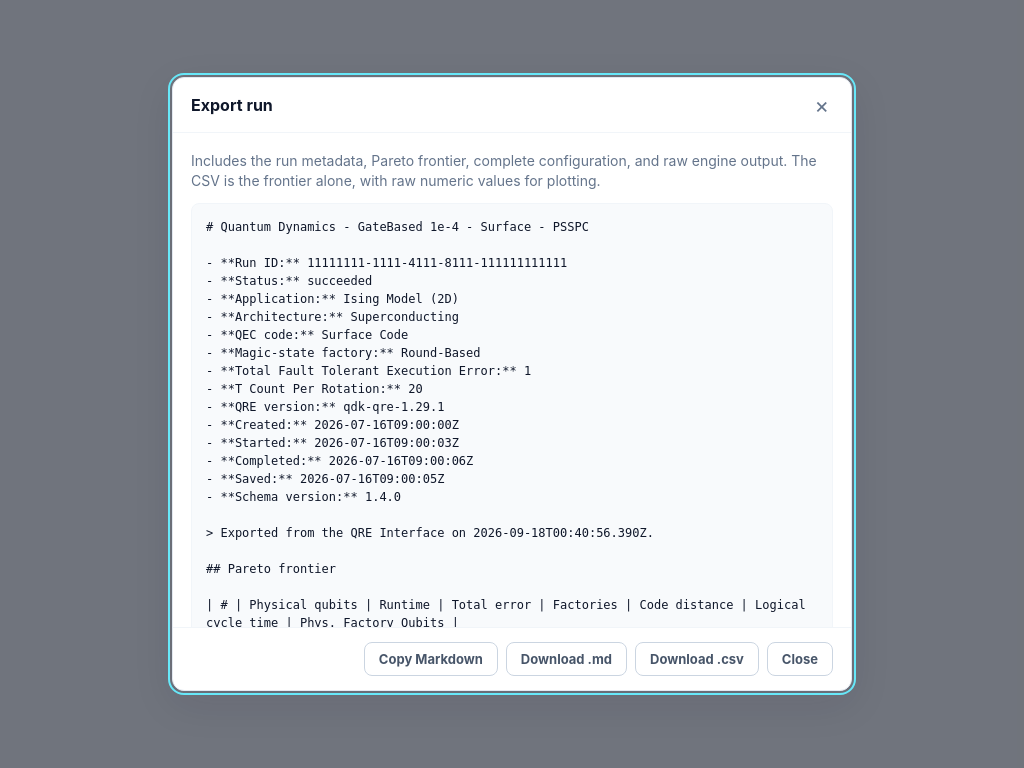
Test case: run export — copy › says so when the clipboard refuses, rather than looking like it worked
Click the button "Copy Markdown".
click(431, 659)  # box 364,642 -> 498,676
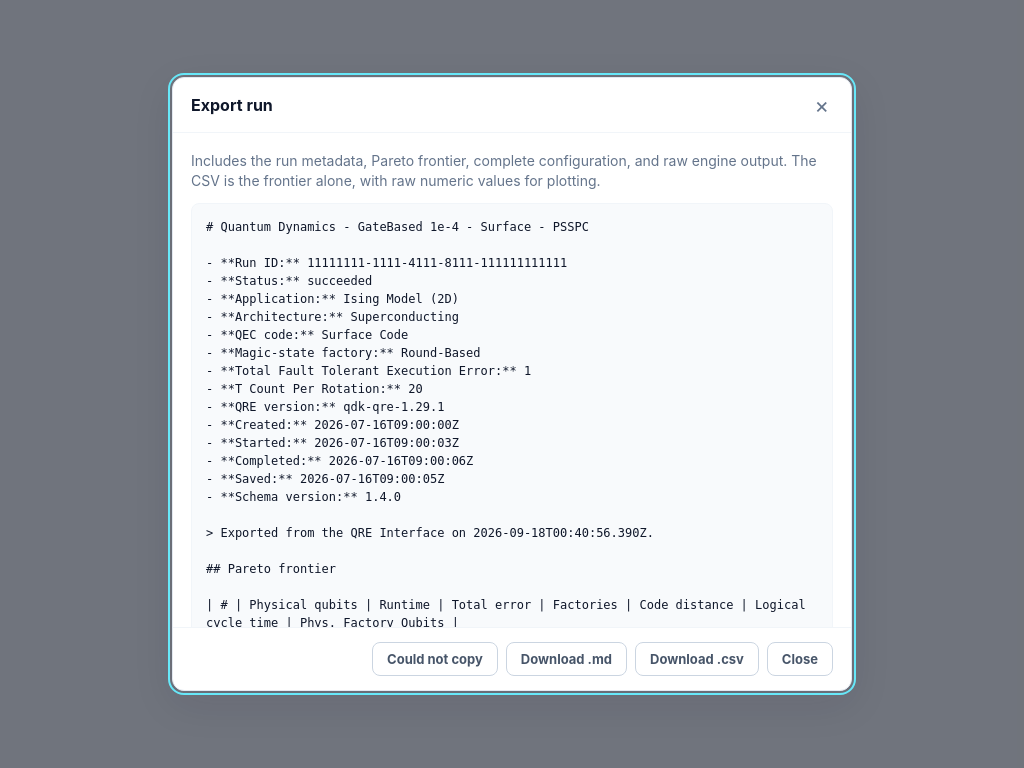
Check: the button named "Copy Markdown" reads "Could not copy", box 372,642 -> 498,676
